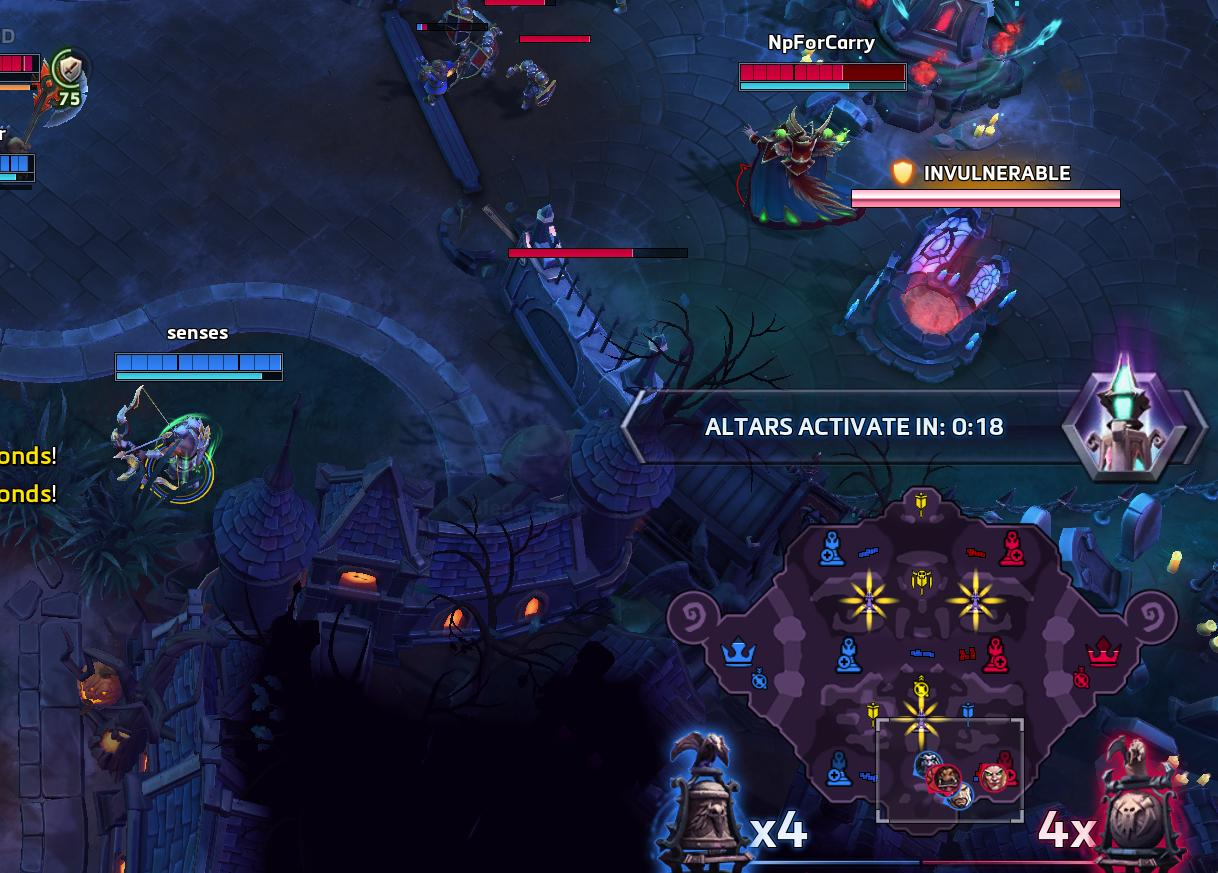blue nexus: (713, 622, 768, 675)
blue player: (908, 746, 943, 780), (942, 780, 976, 812)
blue tower: (809, 525, 851, 572), (820, 744, 857, 792), (828, 634, 866, 674)
red nexus: (1079, 628, 1122, 677)
red player: (977, 759, 1013, 797), (932, 765, 964, 796)
red tower: (976, 631, 1012, 679), (993, 529, 1025, 573)
